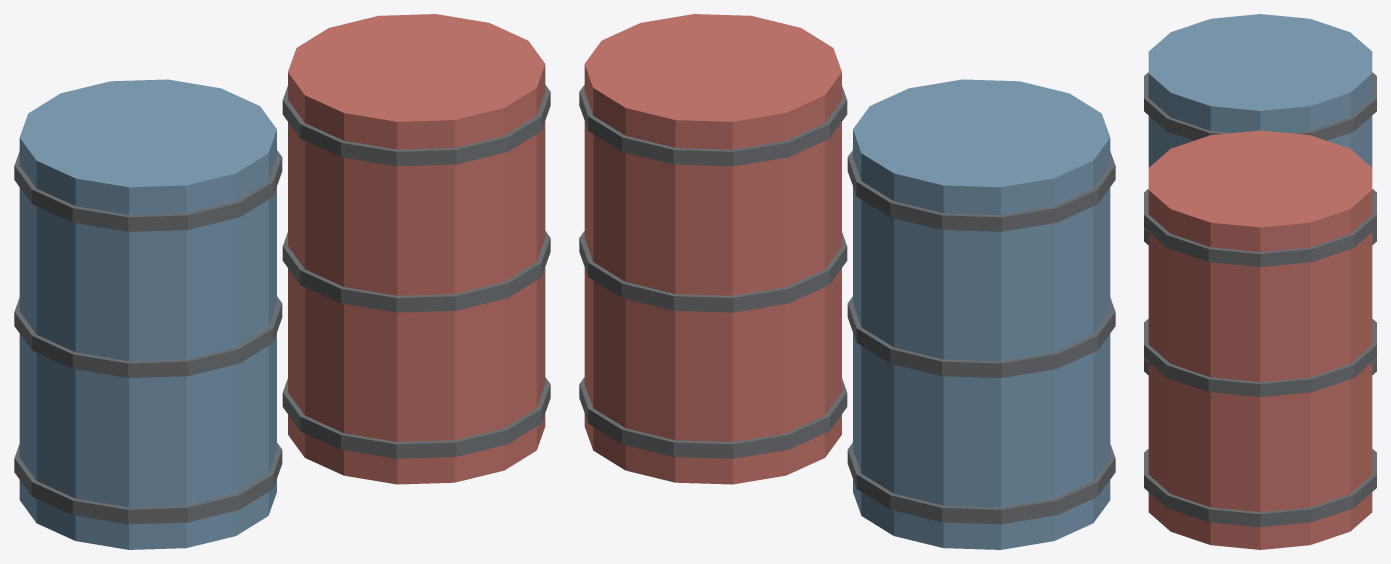
Rendered from drum_cluster_05.glb.
3 views of the same model, side by side, from view 1: azimuth 30°, elevation 25°; view 2: azimuth 150°, elevation 25°; view 3: azimuth 270°, elevation 25° (orthographic). The views are drawn at different scales.
Parts seen in each view (by area): view 1: drum0, drum1, ring1_0.31, ring0_0.56, ring1_0.06, ring0_0.31, ring0_0.06, ring1_0.56; view 2: drum0, drum1, ring1_0.31, ring0_0.56, ring1_0.06, ring0_0.31, ring0_0.06, ring1_0.56; view 3: drum1, drum0, ring1_0.06, ring1_0.31, ring1_0.56, ring0_0.56.
Boxes of the visible parts, x1,y1,x2,y2 form: drum0: (19, 79, 276, 549); drum1: (288, 14, 545, 484); ring1_0.31: (282, 231, 550, 312); ring0_0.56: (14, 150, 282, 231); ring1_0.06: (282, 377, 550, 458); ring0_0.31: (14, 296, 282, 377); ring0_0.06: (14, 442, 282, 524); ring1_0.56: (282, 85, 550, 166); drum0: (853, 79, 1110, 549); drum1: (584, 14, 841, 484); ring1_0.31: (579, 231, 847, 312); ring0_0.56: (847, 150, 1115, 231); ring1_0.06: (579, 377, 847, 458); ring0_0.31: (847, 296, 1115, 377); ring0_0.06: (847, 442, 1115, 524); ring1_0.56: (579, 85, 847, 166); drum1: (1148, 130, 1372, 549); drum0: (1148, 14, 1372, 167); ring1_0.06: (1144, 449, 1376, 527); ring1_0.31: (1144, 319, 1376, 396); ring1_0.56: (1144, 189, 1376, 266); ring0_0.56: (1144, 72, 1376, 140).
Size of the model in its own units: 0.896 by 0.62 by 0.4056.
